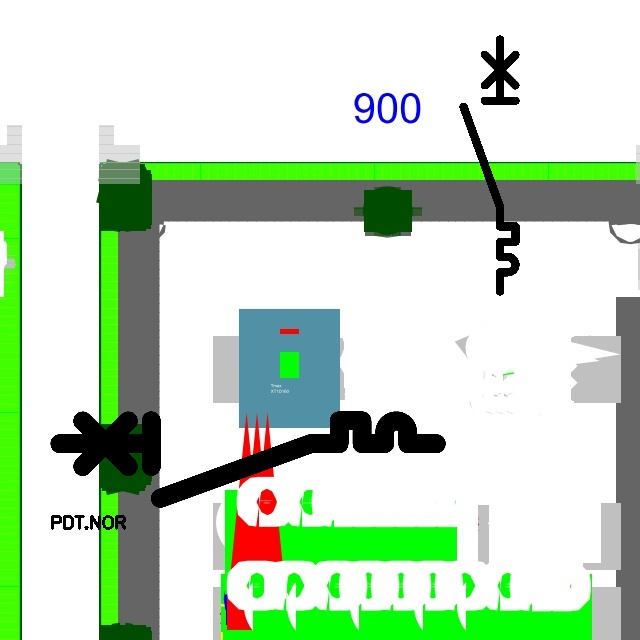interruptor_termomagnetico: (50, 411, 446, 508), (457, 33, 522, 298)
